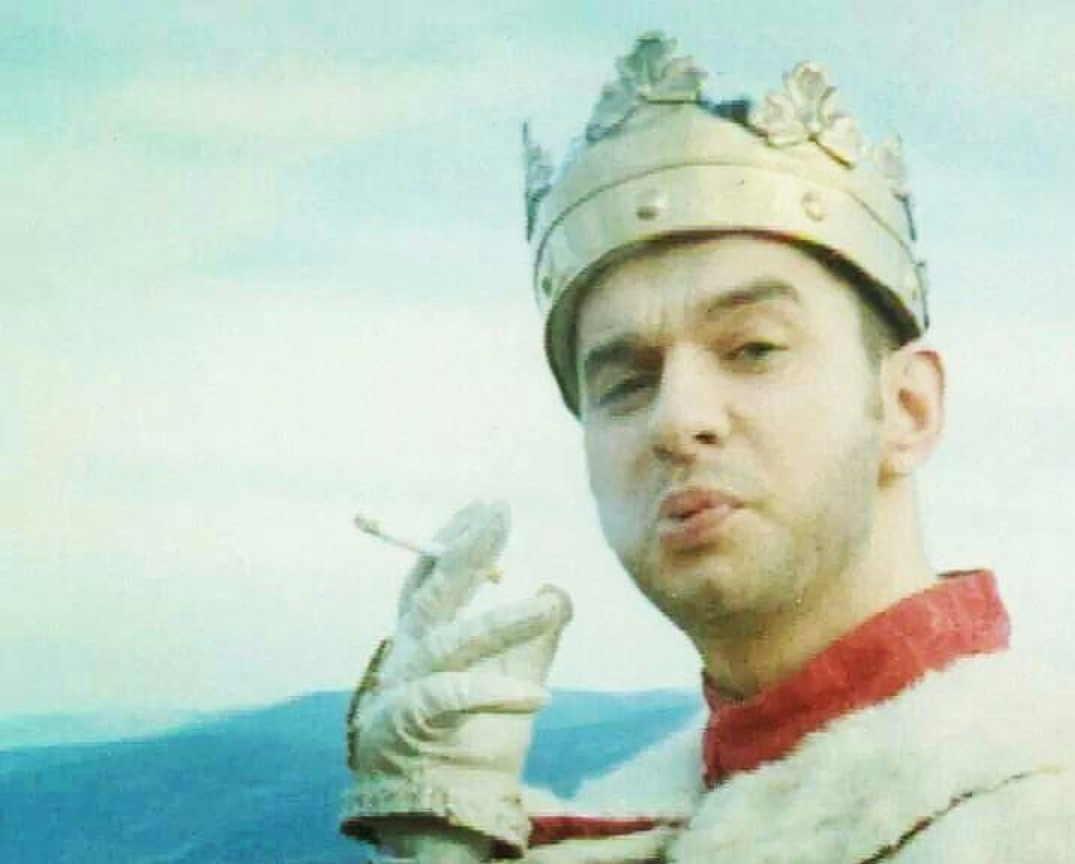cigarette: (349, 510, 445, 564)
